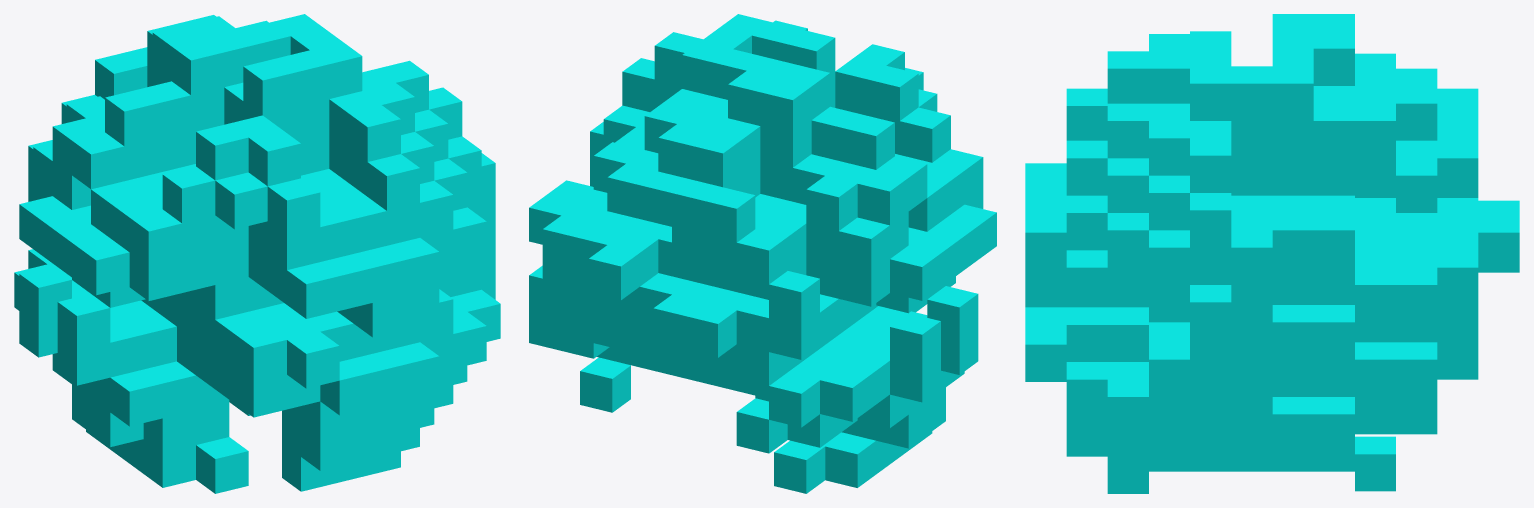
File: planeta-12b.obj
3 views of the same model, side by side, from view 1: azimuth 30°, elevation 25°; view 2: azimuth 150°, elevation 25°; view 3: azimuth 270°, elevation 25° (orthographic). The views are drawn at different scales.
Bounding box in the file's own units: 1.2 × 1.1 × 1.2.
Materials: 1 (1 with a texture image).
